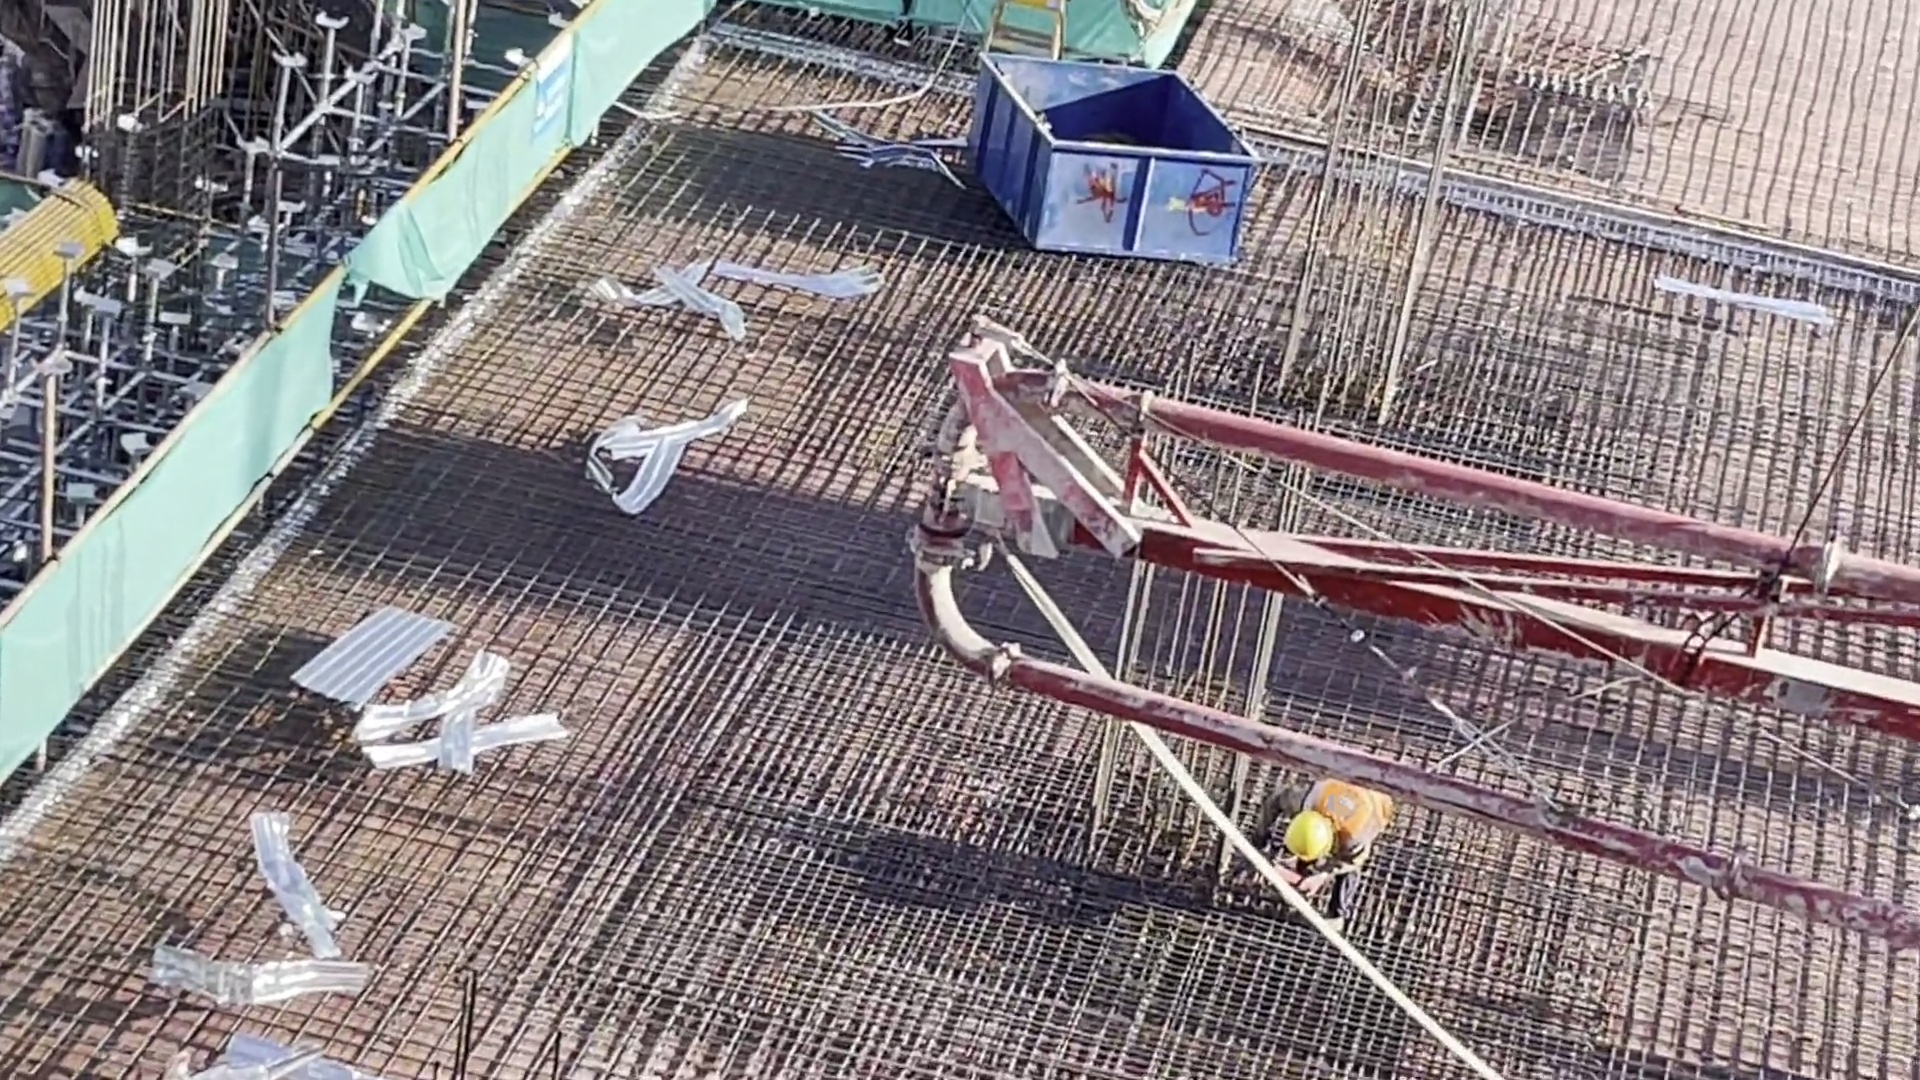helmet: (1285, 816, 1333, 863)
hopper: (971, 72, 1255, 270)
person: (1273, 774, 1396, 923)
vest: (1312, 775, 1395, 845)
